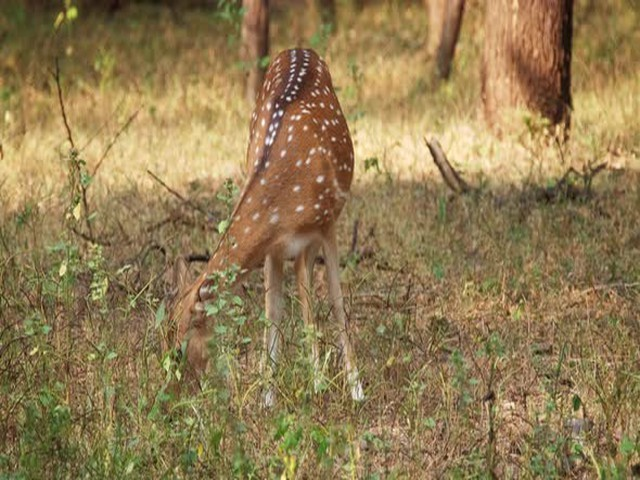deer: (162, 46, 368, 404)
